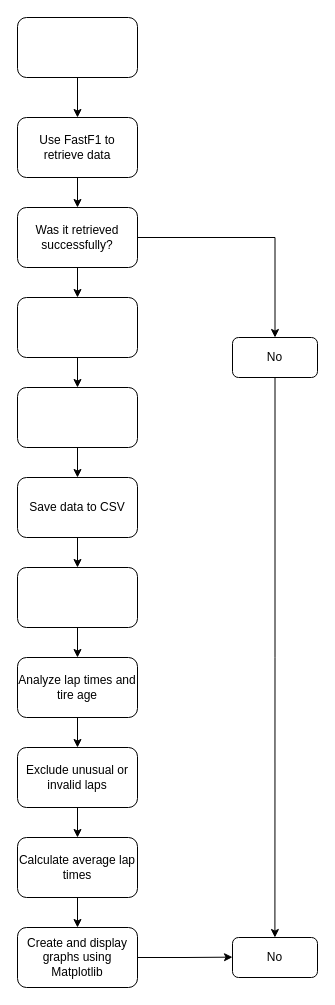
This 335x1005 diagram has some shape labels left out. Each missing label, with the box of its shape:
Extract drivers lap information: (16, 296, 138, 358)
Organize data using Pandas: (16, 386, 138, 448)
Select F1 season, grand prix, and session: (16, 16, 138, 78)
Separate data by tire compound and stint: (16, 566, 138, 628)
